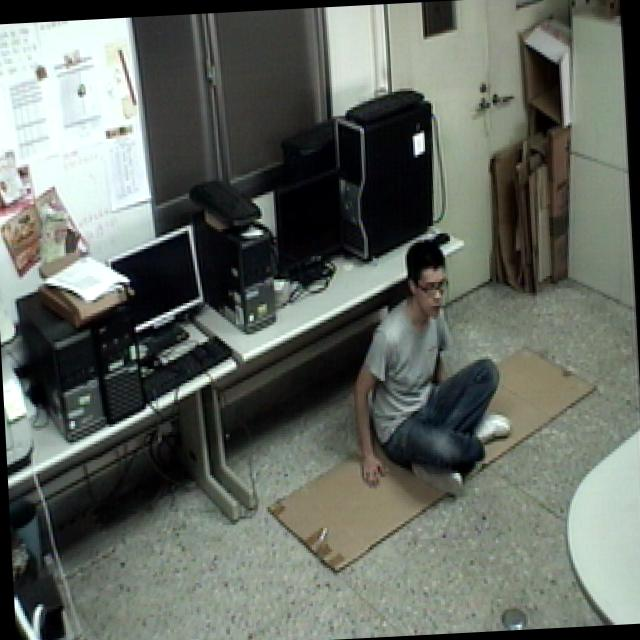sit: (345, 232, 518, 502)
